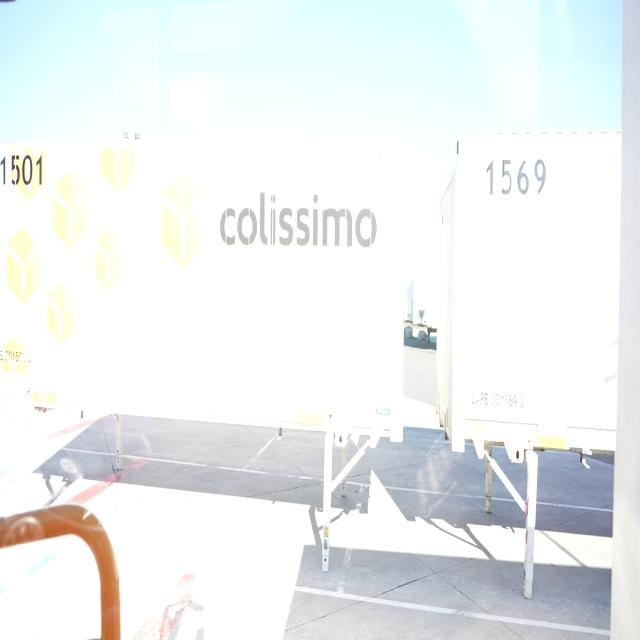Code: (481, 148, 549, 203), (0, 142, 51, 195)
